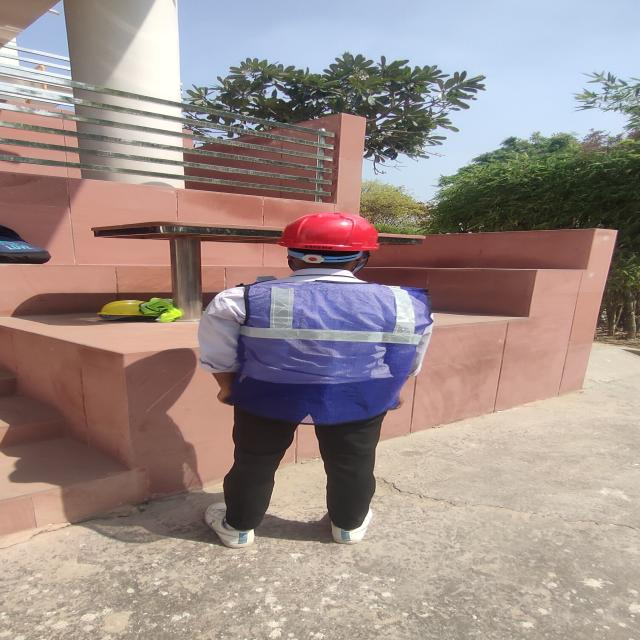safe: (201, 212, 433, 547)
